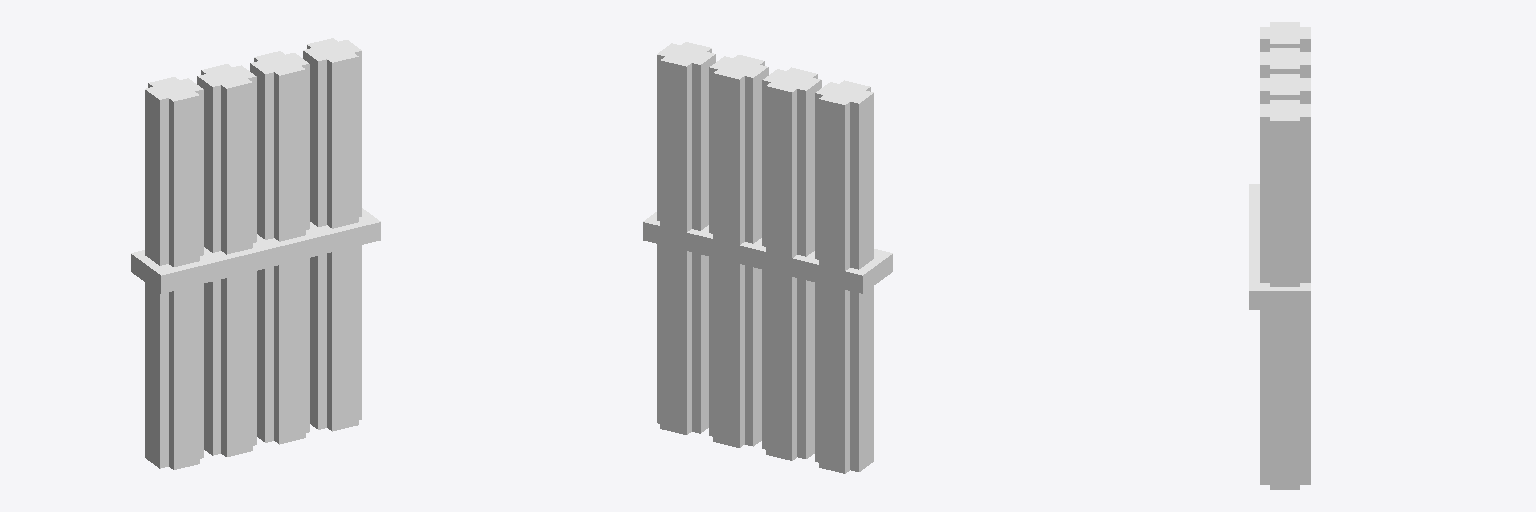
The model's file is Tuberias_Pared.obj.
3 renders of one model, left to right at view 1: azimuth 30°, elevation 25°; view 2: azimuth 150°, elevation 25°; view 3: azimuth 270°, elevation 25°, orthographic.
Visible parts, largest first — view 1: object 1; view 2: object 1; view 3: object 1.
Part boxes in pixels (bbox=[...]): object 1: bbox=[131, 38, 380, 469]; object 1: bbox=[643, 42, 892, 473]; object 1: bbox=[1249, 22, 1310, 489].
Size of the model in its own units: 2.5 by 4 by 0.6.